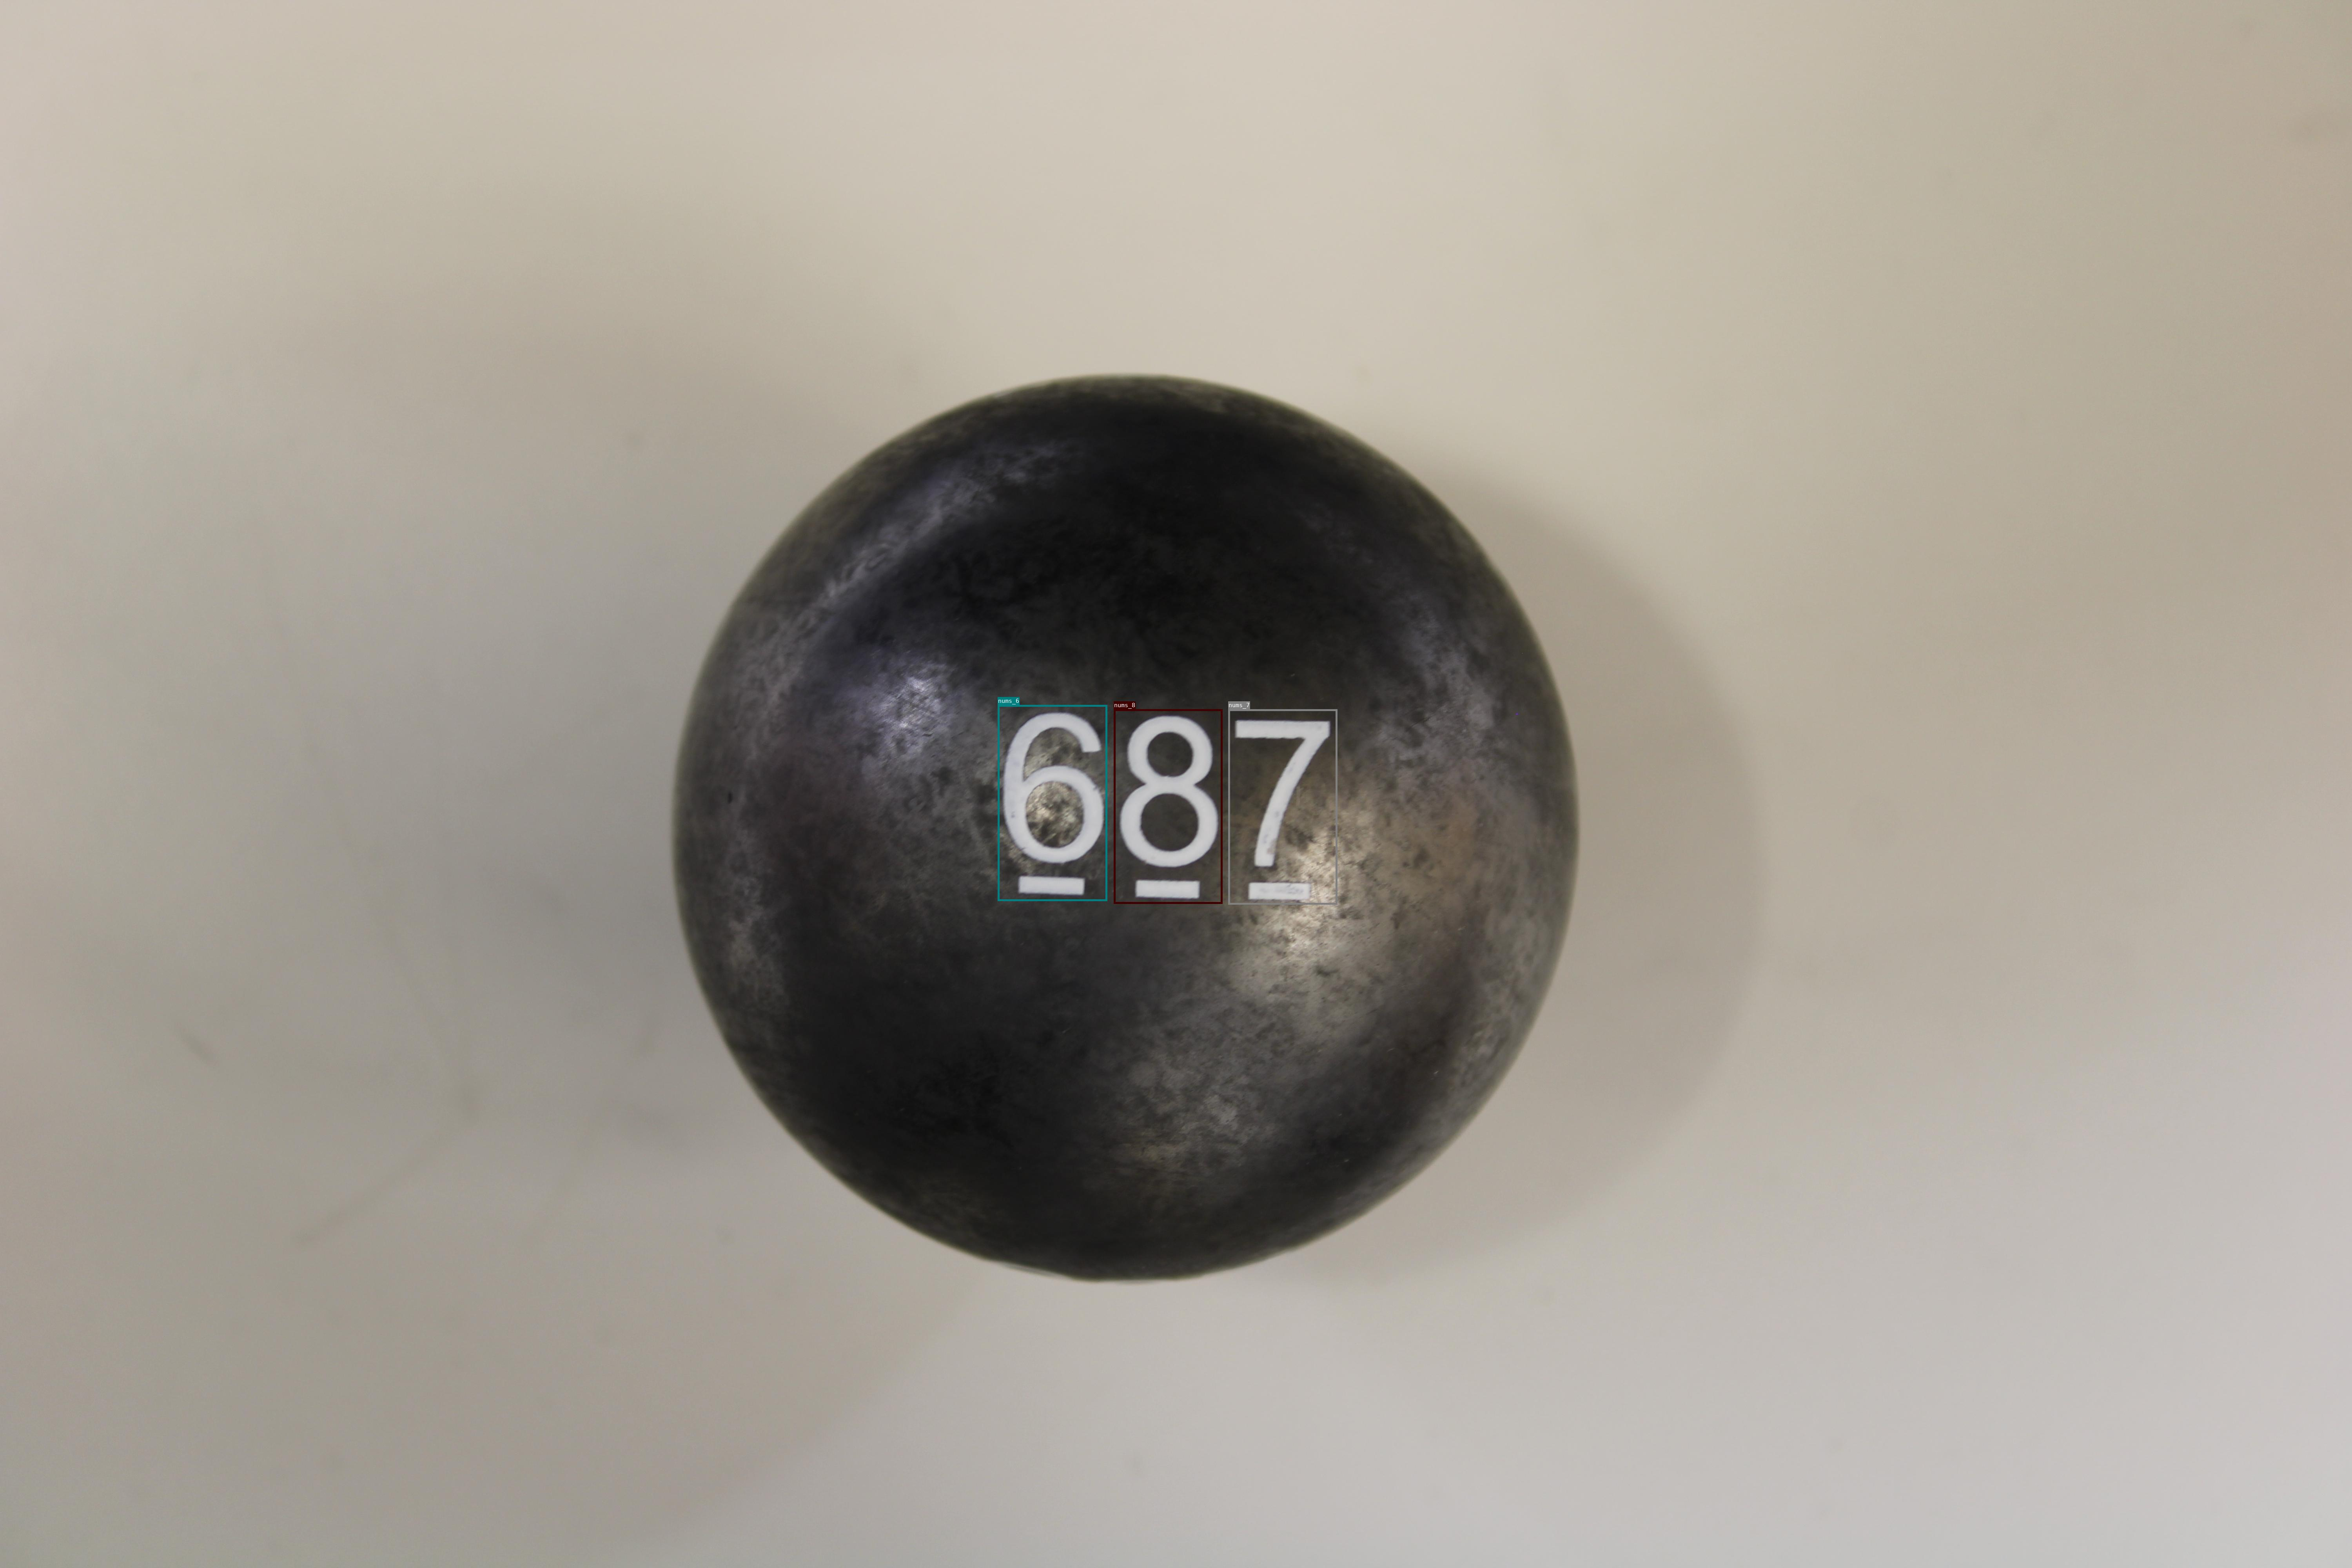nums_6: (998, 705, 1108, 901)
nums_7: (1228, 709, 1337, 905)
nums_8: (1113, 709, 1221, 903)
